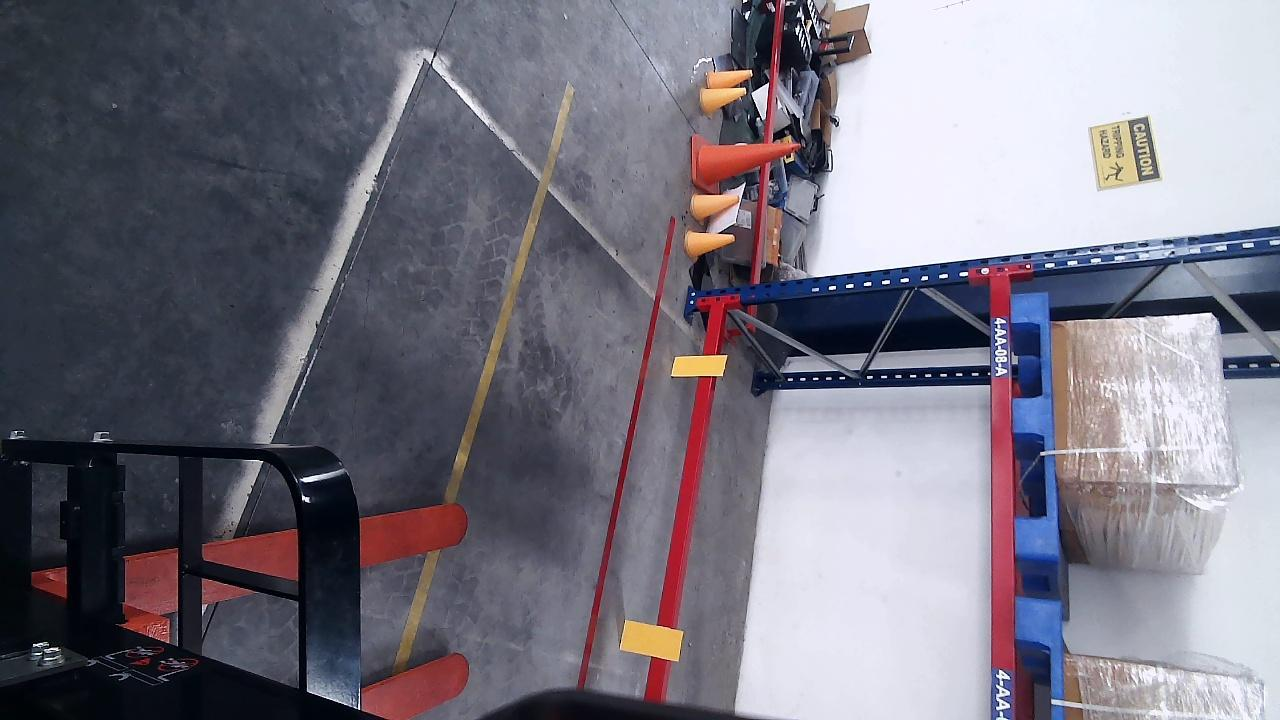h_rack: (645, 305, 726, 704), (990, 275, 1019, 720)
orange_strip: (617, 619, 683, 661), (669, 355, 724, 376)
red_line: (575, 218, 676, 691)
small_pallet: (1012, 294, 1058, 559), (1016, 605, 1064, 720)
yellow_line: (444, 83, 579, 506)
